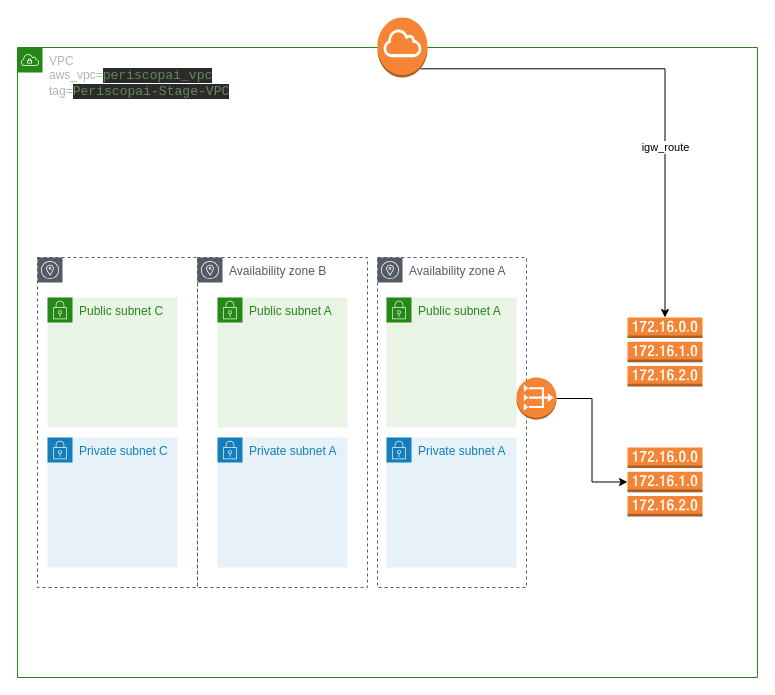
Image size: 775x695. Some labels were removed from this diagram. The shapes that lost their labels are listed below. From the top down, each one's box as (x1, y1, x2, y2) in pixels, then its label:
(376, 16, 428, 78): IGW aws_internet_gateway= "internet_gateway" tag=Stage_IGW
(626, 316, 702, 386): Public Route Table
(516, 376, 556, 420): NNAT GW
(36, 256, 198, 588): Availability zone C
(626, 446, 702, 516): Private Route Table
